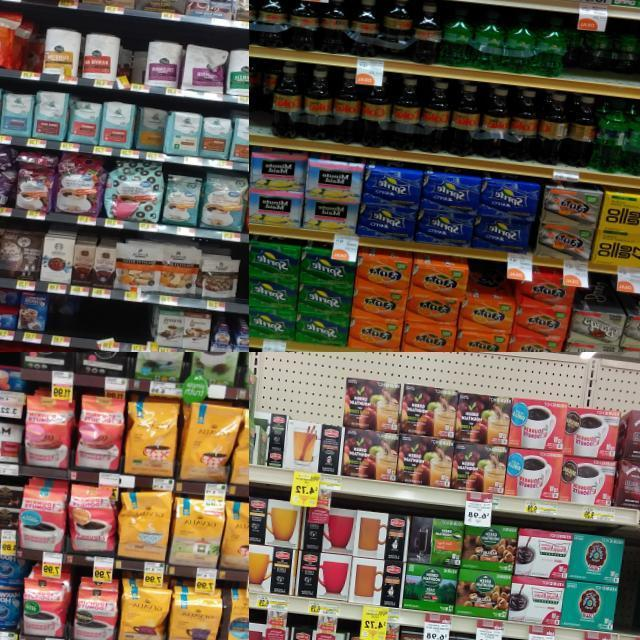empty: (79, 297, 125, 351), (613, 551, 640, 640), (124, 304, 149, 352), (237, 246, 249, 314)
